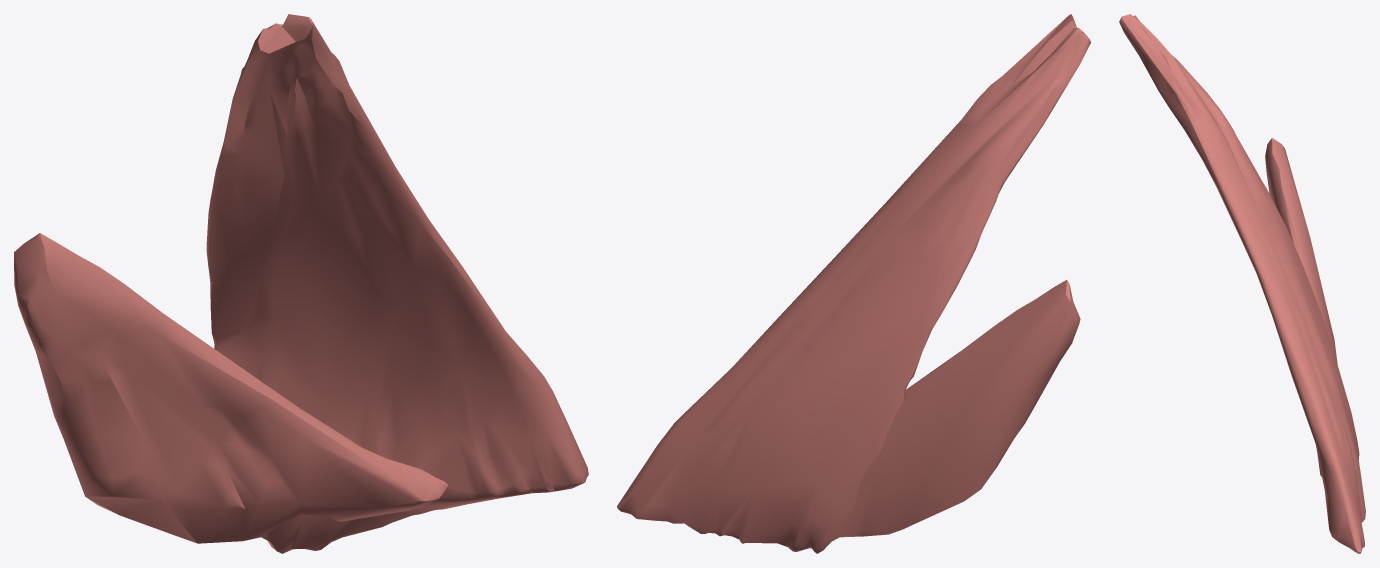
The model's file is fma82371_mm4003.glb.
3 renders of one model, left to right at view 1: azimuth 30°, elevation 25°; view 2: azimuth 150°, elevation 25°; view 3: azimuth 270°, elevation 25°, orthographic. The views are drawn at different scales.
Visible parts, largest first — view 1: FMA82371_MM4003; view 2: FMA82371_MM4003; view 3: FMA82371_MM4003.
Boxes of the visible parts, left/top/right/bottom form: FMA82371_MM4003: left=14, top=14, right=588, bottom=553; FMA82371_MM4003: left=617, top=14, right=1090, bottom=553; FMA82371_MM4003: left=1119, top=14, right=1365, bottom=553.
Bounding box in the file's own units: 0.0368 × 0.0402 × 0.0221.
